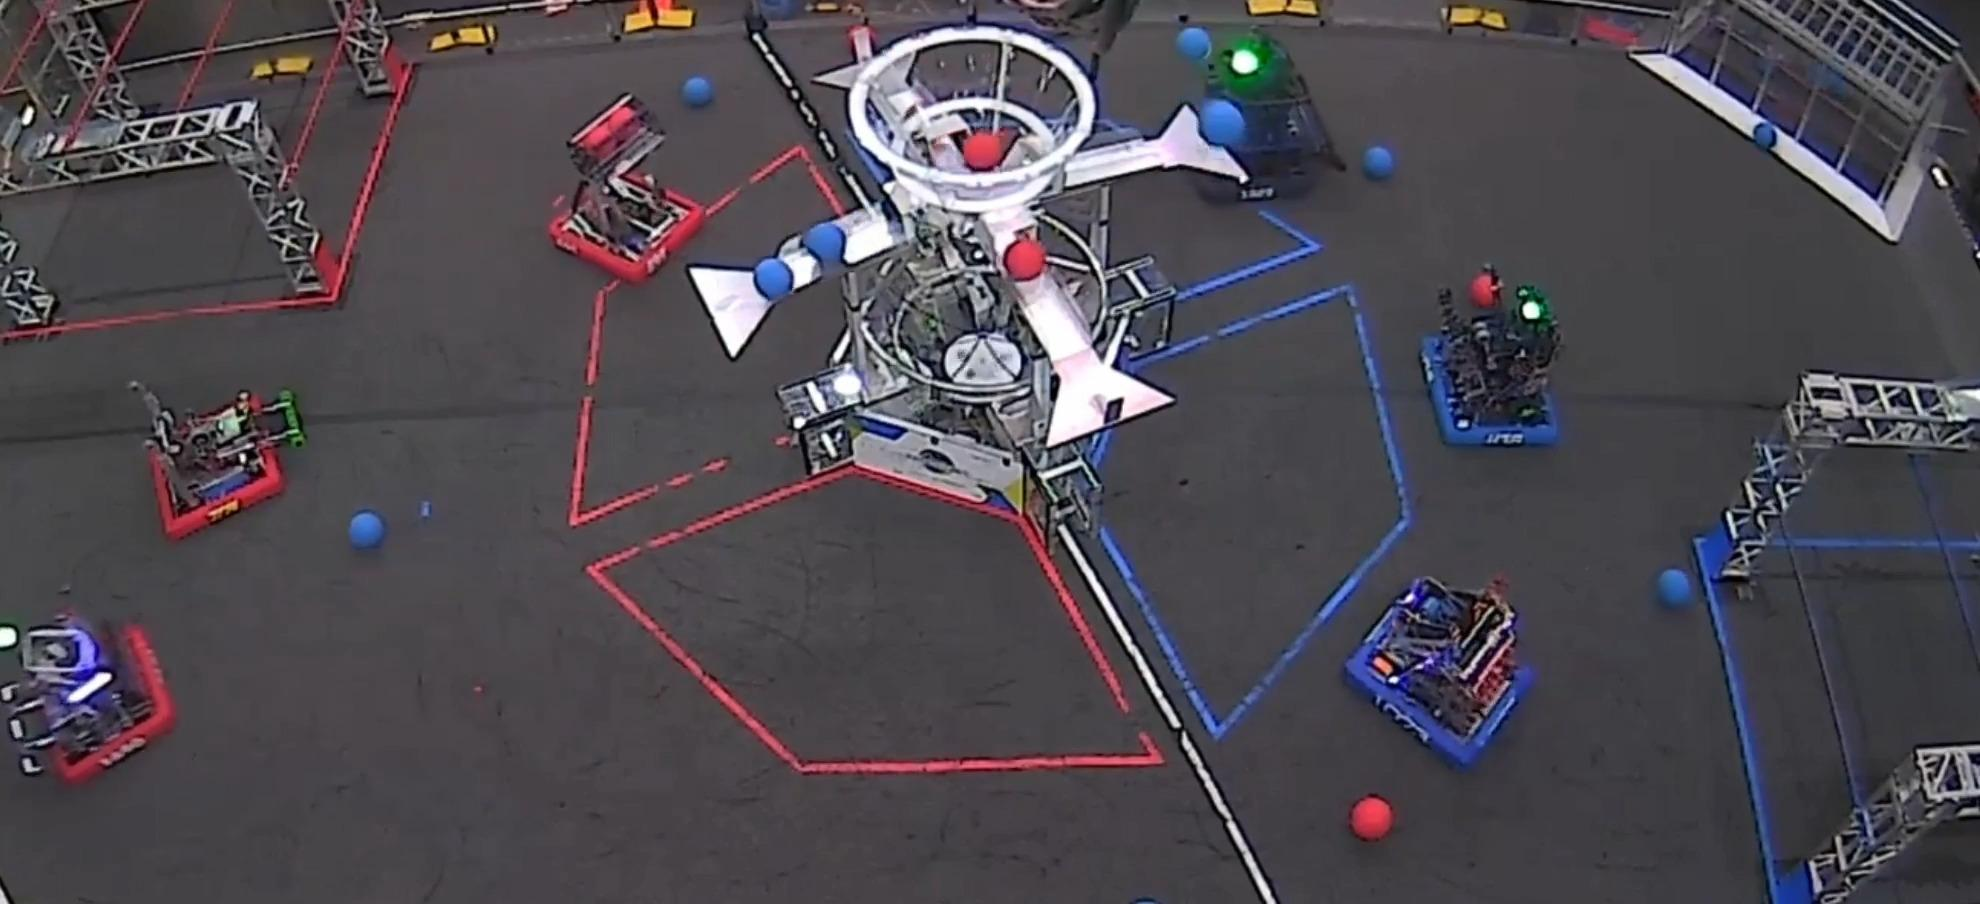Robots: (1347, 577, 1530, 766), (0, 615, 174, 783), (551, 93, 705, 282), (130, 383, 306, 539), (1195, 29, 1345, 201), (1424, 265, 1560, 444)
